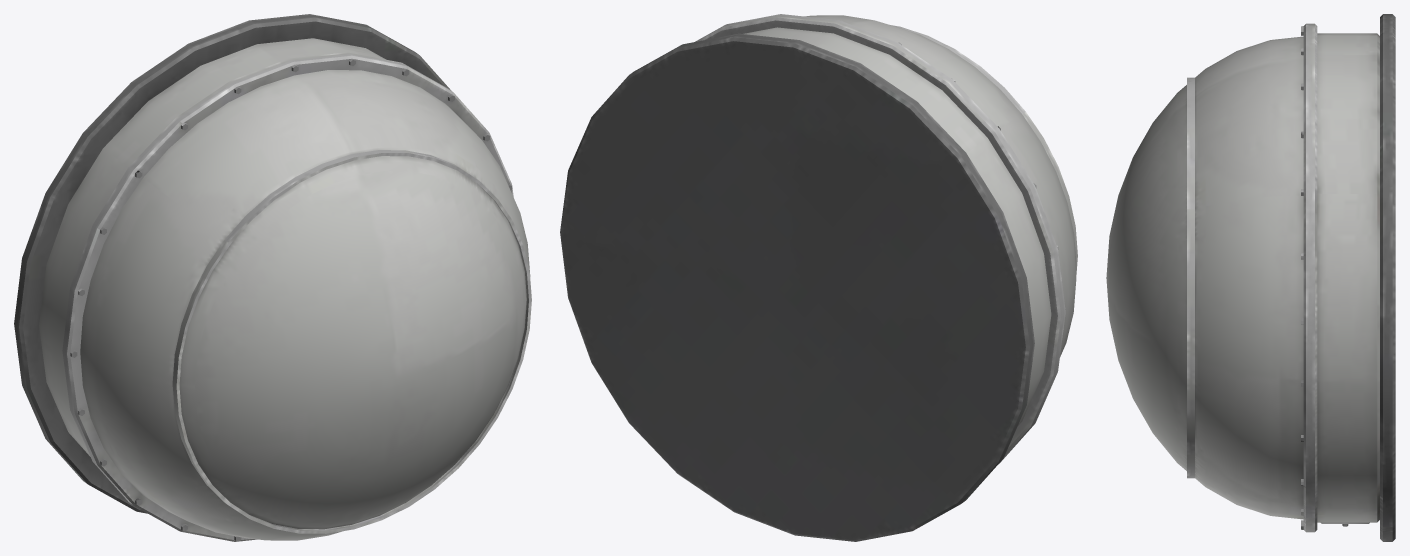
File: dome.glb
3 views of the same model, side by side, from view 1: azimuth 30°, elevation 25°; view 2: azimuth 150°, elevation 25°; view 3: azimuth 270°, elevation 25° (orthographic). The views are drawn at different scales.
Parts seen in each view (by area): view 1: dome; view 2: dome; view 3: dome.
Boxes of the visible parts, bbox=[...] form: dome: bbox=[14, 14, 531, 541]; dome: bbox=[560, 14, 1077, 541]; dome: bbox=[1106, 14, 1395, 541].
Size of the model in its own units: 2.74 by 2.74 by 1.49.
1 material, 1 textured.
